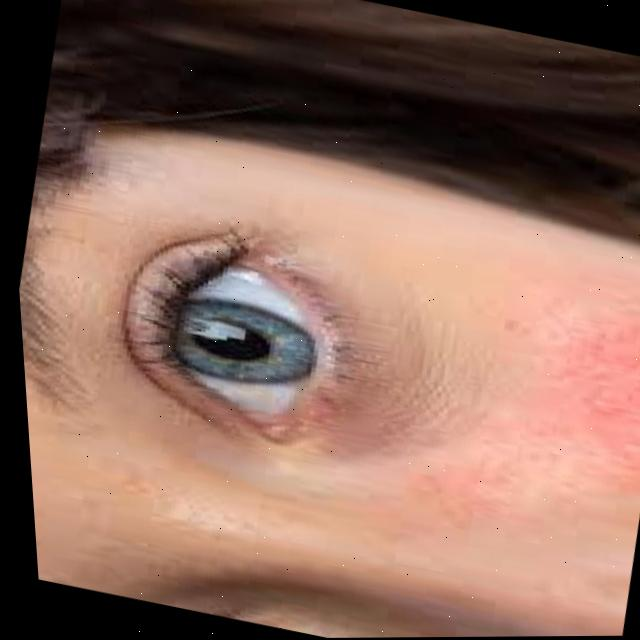Rosacea: (506, 278, 640, 463)
